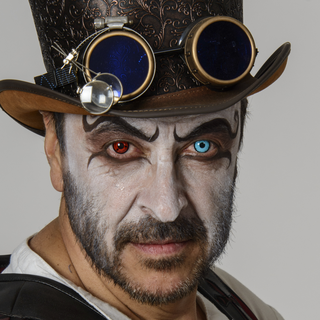eye: (95, 139, 147, 161), (179, 135, 223, 159)
